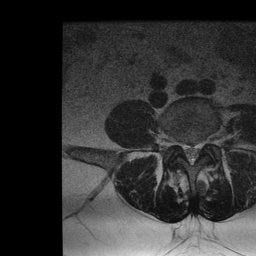CCS_normal: (188, 137, 195, 169)
LFS_stenosis: (202, 130, 209, 152)
LLS_normal: (195, 137, 201, 160)
RFS_severe_stenosis: (172, 131, 180, 153)
RLS_normal: (180, 137, 188, 161)
